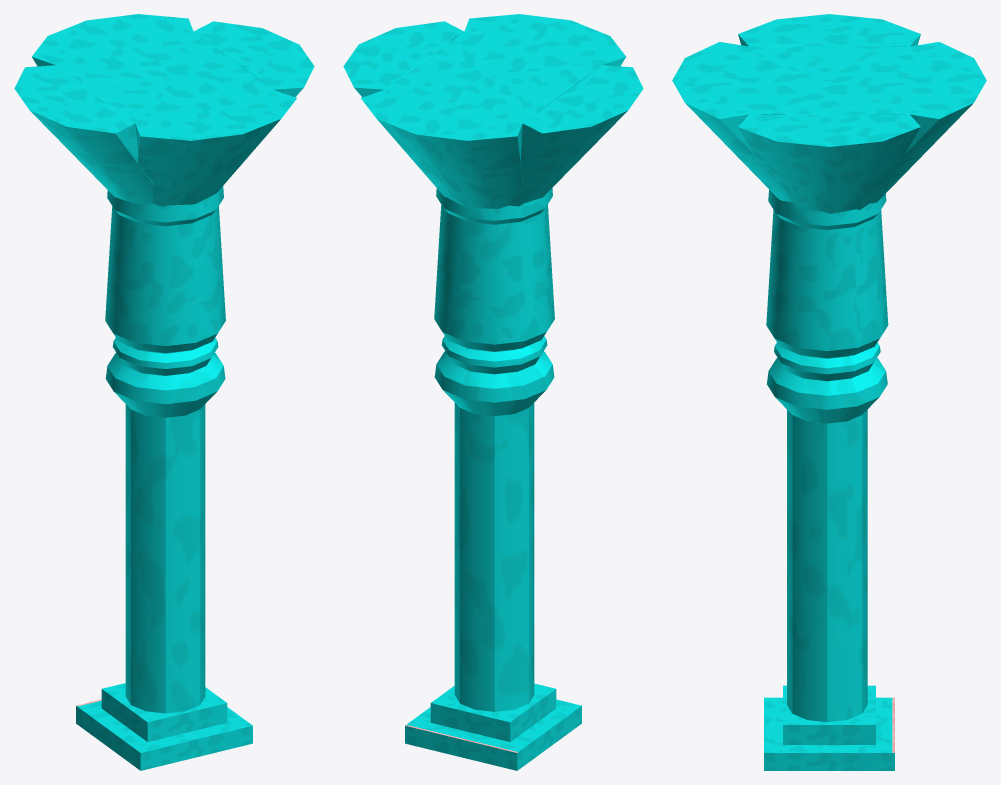
File: SM_Big_Pillard_01.fbx
3 renders of one model, left to right at view 1: azimuth 30°, elevation 25°; view 2: azimuth 150°, elevation 25°; view 3: azimuth 270°, elevation 25°, orthographic.
Visible parts, largest first — view 1: polySurface23, polySurface21, pCube51; view 2: polySurface23, polySurface21, pCube51; view 3: polySurface23, polySurface21, pCube51.
Part boxes in pixels (x1=…): polySurface23: x1=105, y1=186, x2=225, y2=713; polySurface21: x1=14, y1=14, x2=314, y2=206; pCube51: x1=76, y1=683, x2=252, y2=770; polySurface23: x1=434, y1=188, x2=554, y2=711; polySurface21: x1=343, y1=14, x2=643, y2=209; pCube51: x1=405, y1=683, x2=581, y2=770; polySurface23: x1=766, y1=189, x2=888, y2=722; polySurface21: x1=672, y1=14, x2=986, y2=213; pCube51: x1=764, y1=685, x2=894, y2=770.
Bounding box in the file's own units: 8.11 × 18.85 × 8.11.
Materials: 1 (1 with a texture image).
